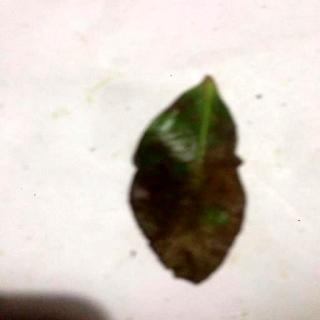Red Leaf Spot: (130, 76, 248, 287)
